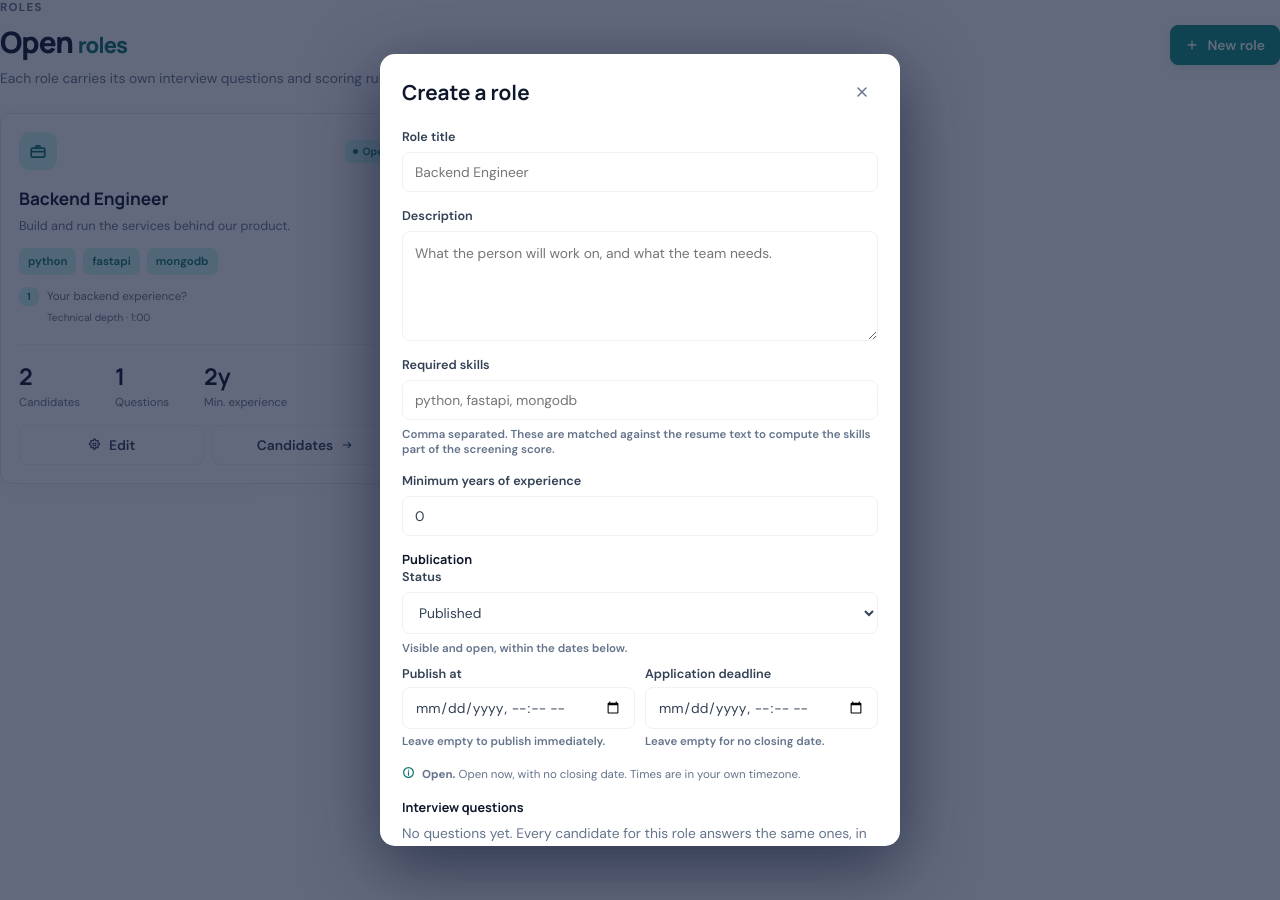
Test: creating a role with a window › blocks creation with an impossible window
Type "Nonsense" into the field labelled "Role title" at coordinates (640, 172), box [402,152,878,192]
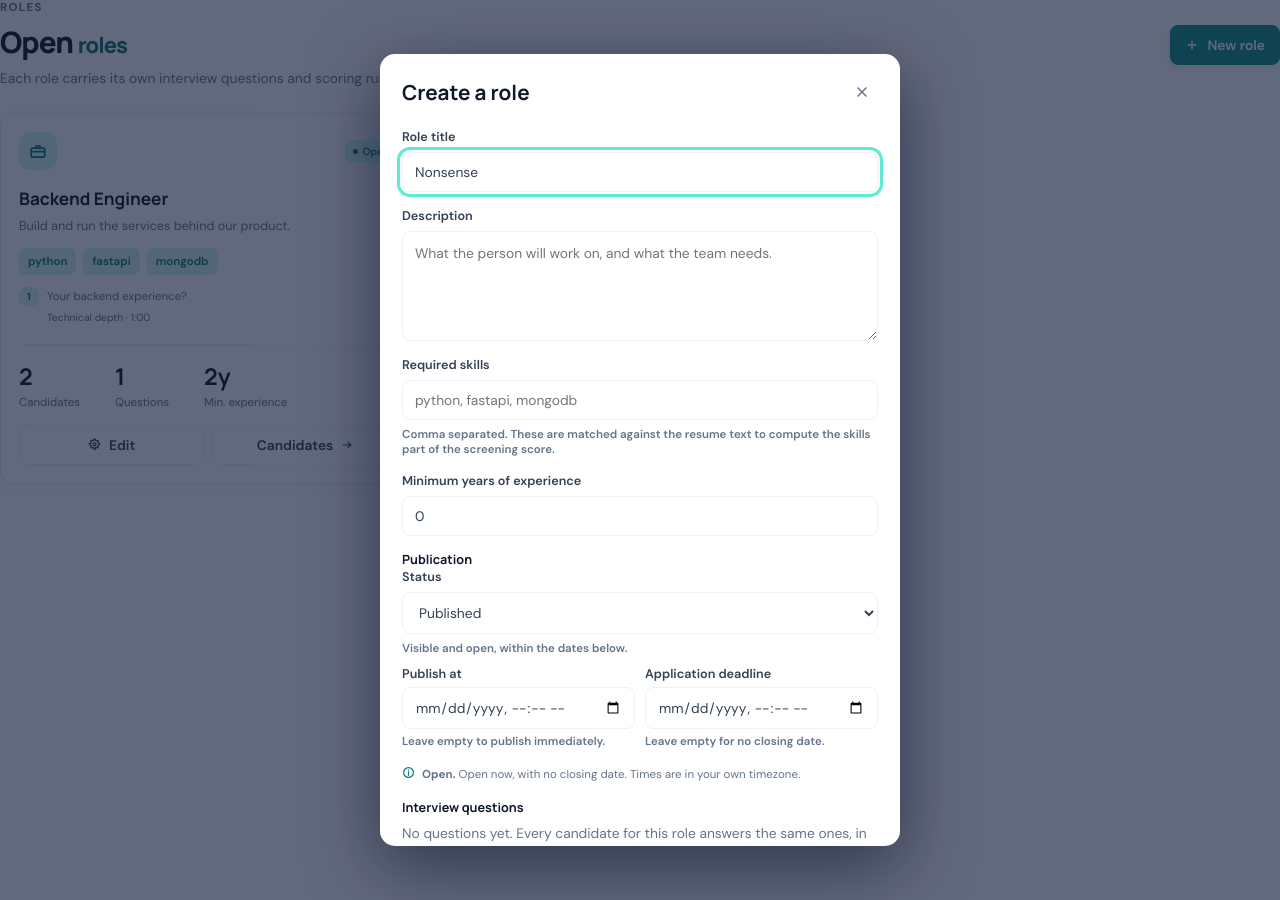
Type "d" into the text box labelled "Description" at coordinates (640, 286), box [402,231,878,341]
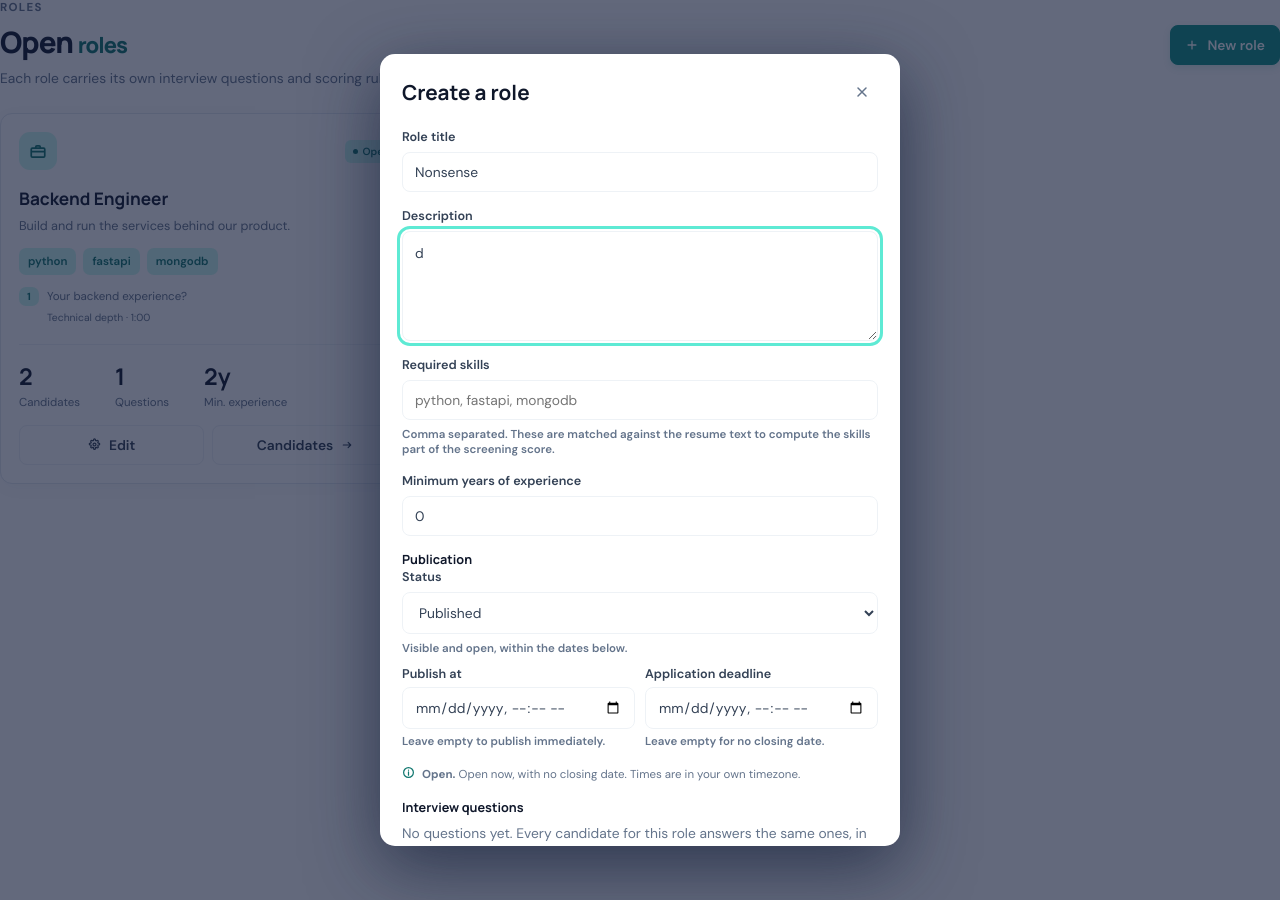
Type "2099-02-01T09:00" into the field labelled "Publish at Leave empty to publish immediately." at coordinates (518, 708), box [402,687,635,729]
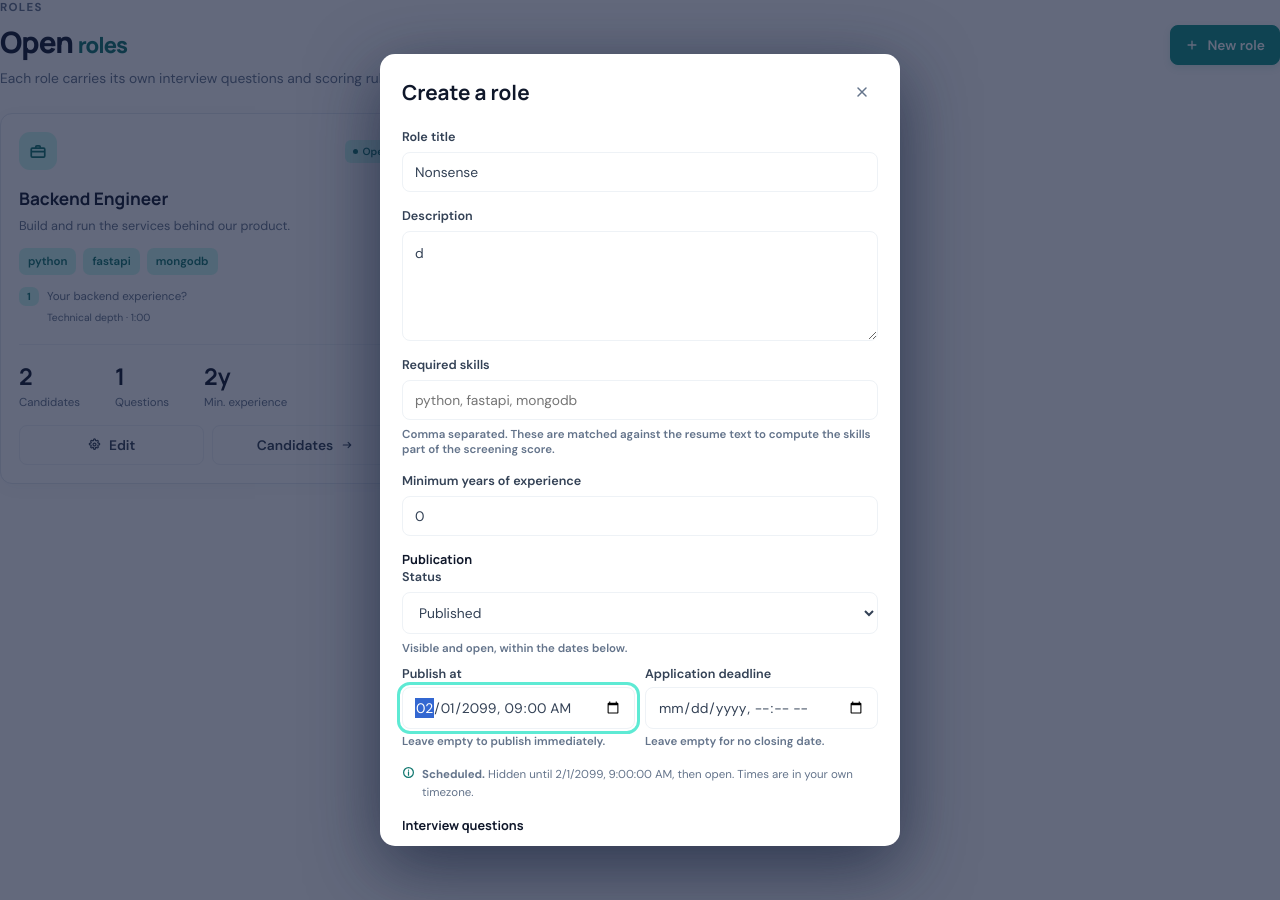
Type "2099-01-01T09:00" into the field labelled "Application deadline Leave empty for no closing date." at coordinates (762, 708), box [645,687,878,729]
(page scrolled)
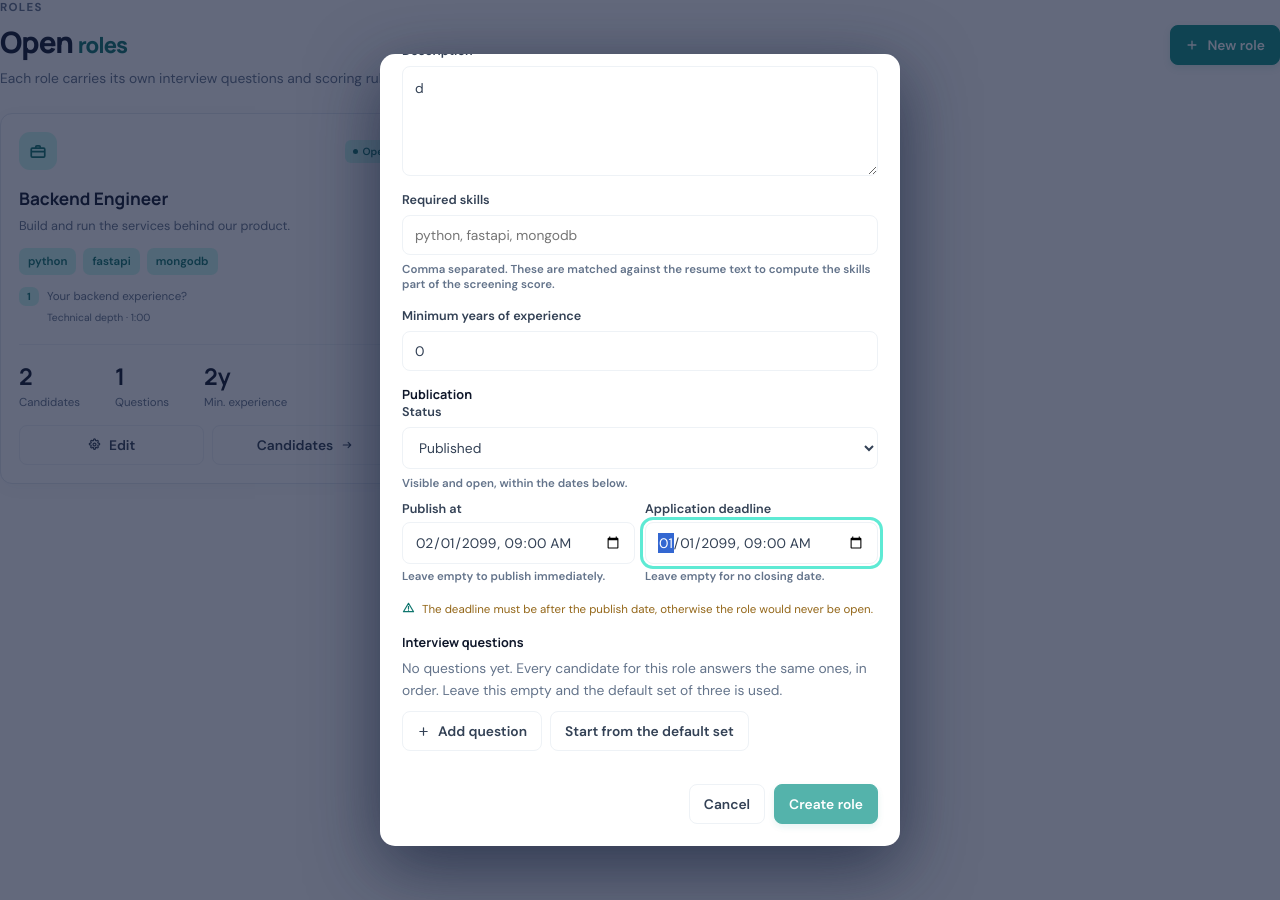
Result: the button "Create role" is disabled at [774,784,878,824]
